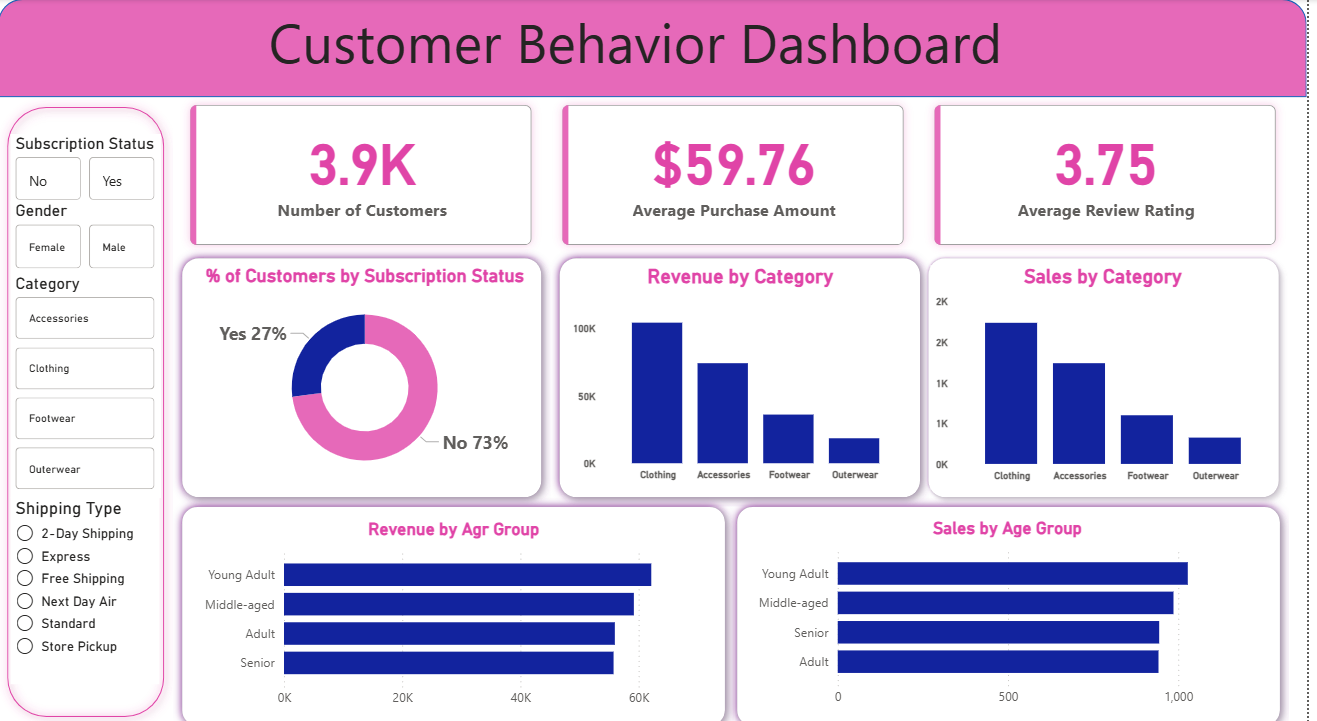

The page's visual inventory and layout, read from the dashboard file:
{"tool":"powerbi","page":{"name":"Page 1","canvas":[1280,720],"ordinal":0},"visuals":[{"type":"cardVisual","fields":{"Data":["customer_behavior mytable.Number of Customers","customer_behavior mytable.Average Purchase Amount","customer_behavior mytable.Average Review Rating"]},"box":[160.5,75.5,1119.7,193.5],"z":0},{"type":"shape","box":[0,0,1280.3,96.1],"z":1000},{"type":"textbox","box":[0,0,1247.3,96.1],"z":2000},{"type":"shape","box":[171.2,244.6,369.3,251.9],"z":3000},{"type":"donutChart","title":"% of Customers by Subscription Status","fields":{"Category":["customer_behavior mytable.subscription_status"],"Y":["CountNonNull(customer_behavior mytable.customer_id)"]},"box":[190.8,260.5,336.3,218.9],"z":4000},{"type":"shape","box":[540.5,244.6,370.5,251.9],"z":5000},{"type":"shape","box":[901.2,244.6,360.7,251.9],"z":6000},{"type":"clusteredColumnChart","title":"Revenue by Category","fields":{"Y":["Sum(customer_behavior mytable.purchase_amount)"],"Category":["customer_behavior mytable.category"]},"box":[557.6,260.5,337.5,218.9],"z":7000},{"type":"clusteredColumnChart","title":"Sales by Category","fields":{"Category":["customer_behavior mytable.category"],"Y":["CountNonNull(customer_behavior mytable.customer_id)"]},"box":[912.5,260.7,337.6,219.6],"z":8000},{"type":"shape","box":[0,96.1,171.5,614.8],"z":9000},{"type":"advancedSlicerVisual","fields":{"Values":["customer_behavior mytable.subscription_status"]},"box":[12.3,131.7,146.8,70],"z":10000},{"type":"advancedSlicerVisual","fields":{"Values":["customer_behavior mytable.gender"]},"box":[12.3,197.6,146.8,71.4],"z":11000},{"type":"advancedSlicerVisual","fields":{"Values":["customer_behavior mytable.category"]},"box":[12.3,269,146.8,219.6],"z":12000},{"type":"listSlicer","fields":{"Values":["customer_behavior mytable.shipping_type"]},"box":[12.3,488.5,145.5,182.5],"z":13000},{"type":"shape","box":[171.5,488.5,548.9,231.9],"z":15000},{"type":"barChart","title":"Revenue by Agr Group","fields":{"Y":["Sum(customer_behavior mytable.purchase_amount)"],"Category":["customer_behavior mytable.age_group"]},"box":[192.1,509.1,507.7,193.5],"z":15001},{"type":"shape","box":[713.6,488.5,548.9,231.9],"z":15003},{"type":"barChart","title":"Sales by Age Group","fields":{"Y":["CountNonNull(customer_behavior mytable.customer_id)"],"Category":["customer_behavior mytable.age_group"]},"box":[734.1,507.7,507.7,193.5],"z":15004}]}

Visuals, with their boxes in screenshot pixels (x1, y1, x2, y2), scaled from the page's 1280x720 canvas onto the 1317x721 screenshot:
cardVisual - customer_behavior mytable.Number of Customers x customer_behavior mytable.Average Purchase Amount: region(165, 76, 1316, 269)
shape: region(0, 0, 1316, 96)
textbox: region(0, 0, 1283, 96)
shape: region(176, 245, 556, 497)
"% of Customers by Subscription Status" donutChart: region(196, 261, 542, 480)
shape: region(556, 245, 937, 497)
shape: region(927, 245, 1298, 497)
"Revenue by Category" clusteredColumnChart: region(574, 261, 921, 480)
"Sales by Category" clusteredColumnChart: region(939, 261, 1286, 481)
shape: region(0, 96, 176, 712)
advancedSlicerVisual - customer_behavior mytable.subscription_status: region(13, 132, 164, 202)
advancedSlicerVisual - customer_behavior mytable.gender: region(13, 198, 164, 269)
advancedSlicerVisual - customer_behavior mytable.category: region(13, 269, 164, 489)
listSlicer - customer_behavior mytable.shipping_type: region(13, 489, 162, 672)
shape: region(176, 489, 741, 720)
"Revenue by Agr Group" barChart: region(198, 510, 720, 704)
shape: region(734, 489, 1299, 720)
"Sales by Age Group" barChart: region(755, 508, 1278, 702)
